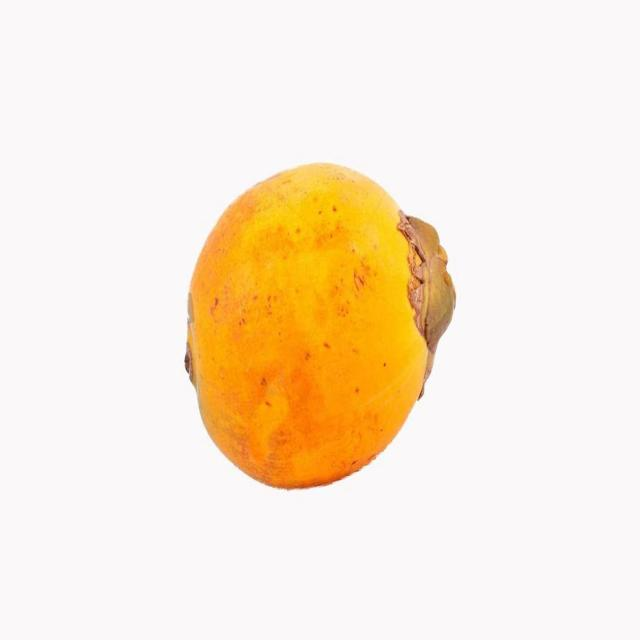good: (184, 163, 456, 492)
